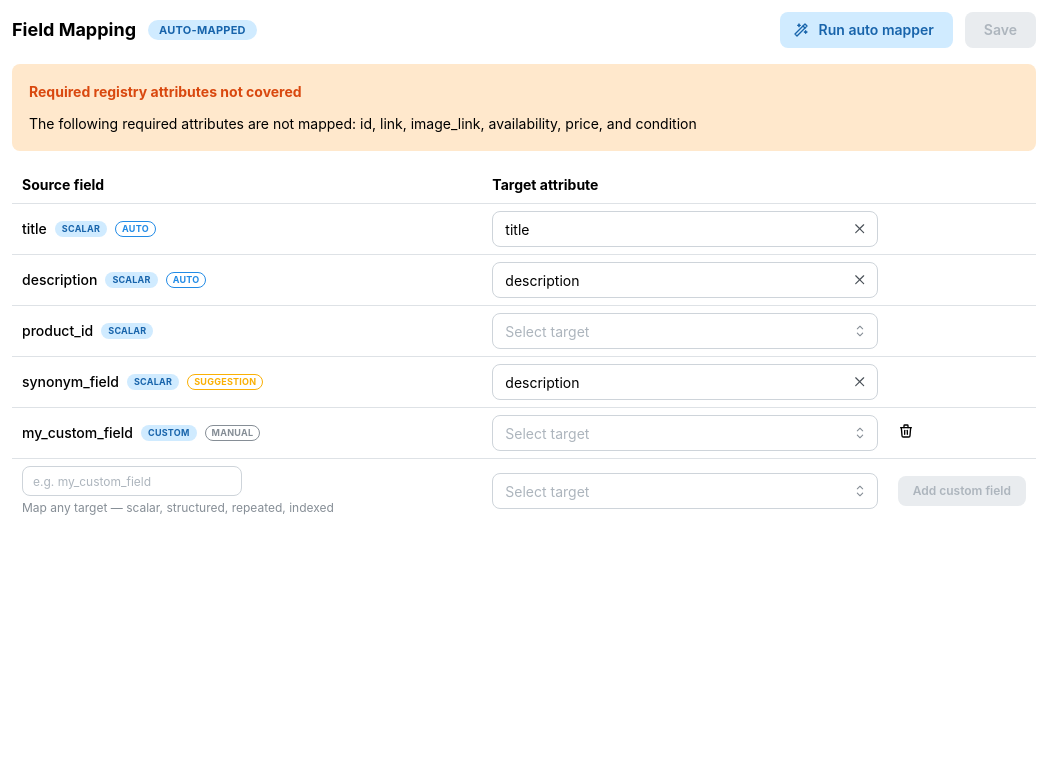
Scenario: MappingTab › marking dirty enables save button
Expected: the text "product_id" is shown, [22,321,93,341]
Expected: the button "Save" is disabled, [965,12,1036,48]
Click the dropdown with placeholder "Select target" in the row of "product_id".
click(685, 331)  # box [492,313,878,349]
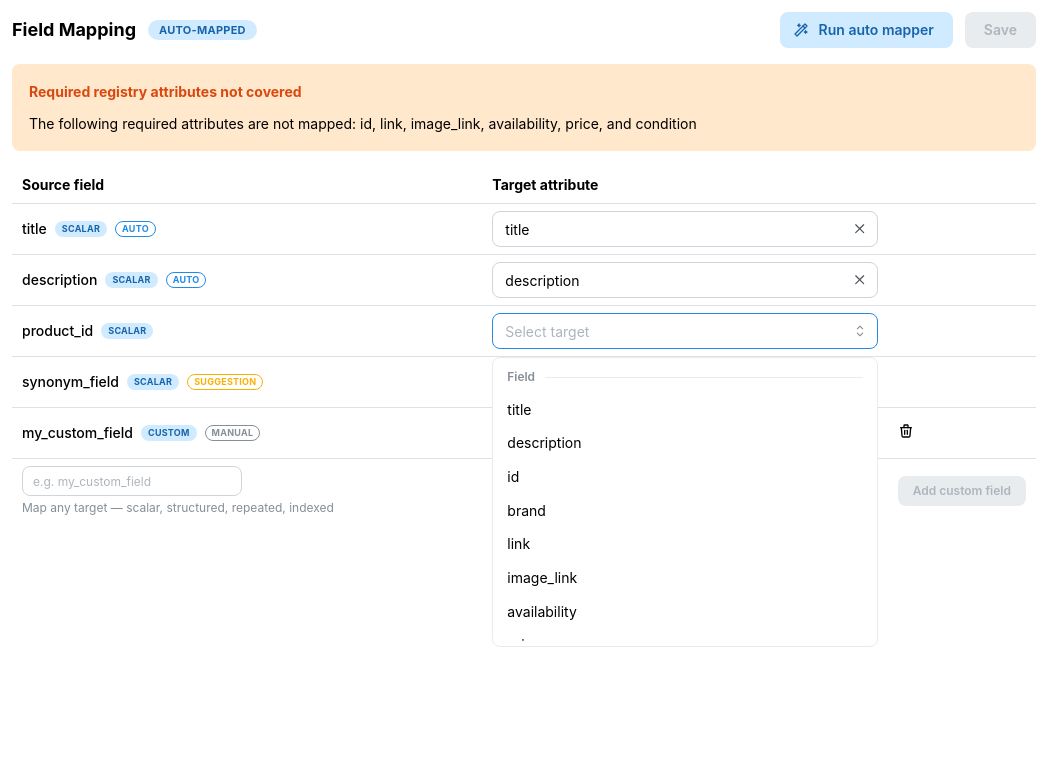
Click the option "id".
click(513, 476)  # box [507,468,519,485]
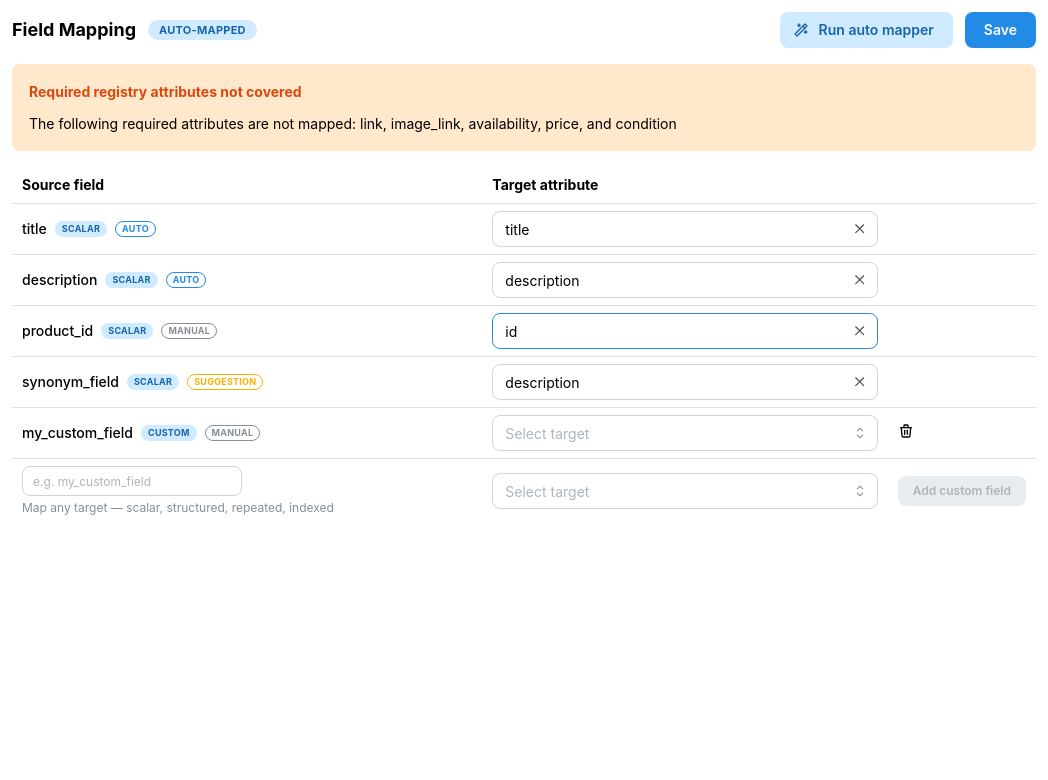
Result: the button "Save" is enabled at [965,12,1036,48]
